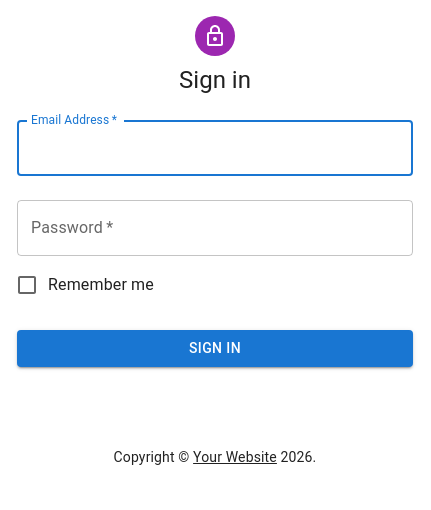
it: shows generic failure, clears both inputs, and focuses the enabled email field
Type "wrong@example.com" into the field labelled "Email Address *" at {"x": 215, "y": 148}, box [17, 120, 413, 176]
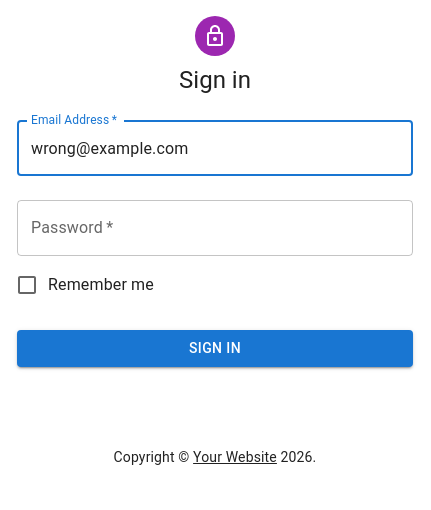
Type "wrong" into the password field labelled "Password *" at {"x": 215, "y": 228}, box [17, 200, 413, 256]
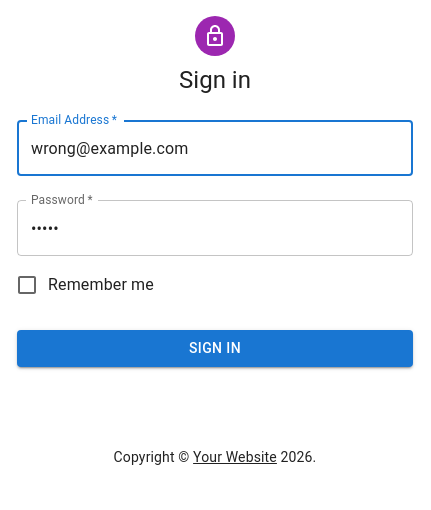
Click the button "Sign In" at {"x": 215, "y": 348}, box [17, 330, 413, 366]
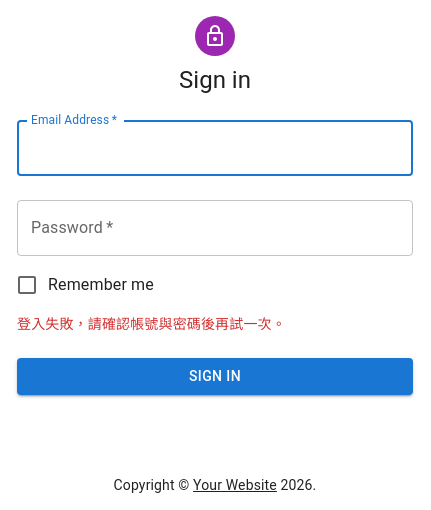
expect the message reads "登入失敗，請確認帳號與密碼後再試一次。": met, box [17, 316, 286, 332]
expect the field labelled "Email Address *" is empty: met, box [17, 120, 413, 176]
expect the password field labelled "Password *" is empty: met, box [17, 200, 413, 256]
